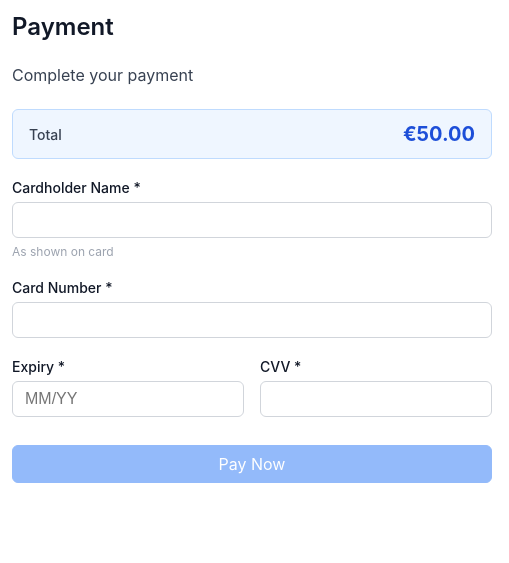
Test: PaymentStepComponent › Payment error (network failure) › should set paymentError on observable error
Type "John Doe" into the field with id "cardholderName". click: (252, 220)
box: [12,202,492,238]
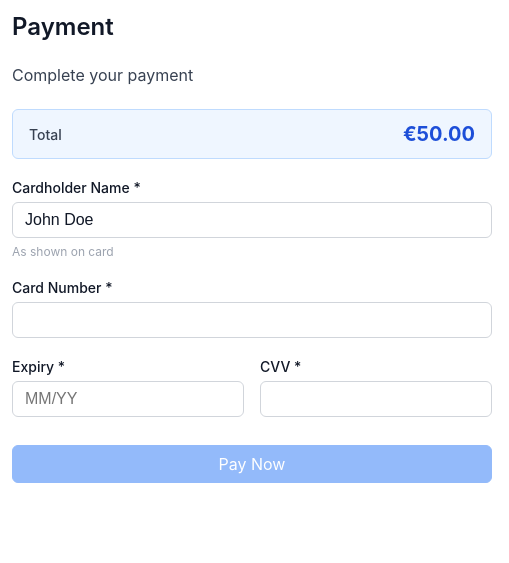
Type "4111111111111111" into the field with id "cardNumber". click: (252, 320)
box: [12,302,492,338]
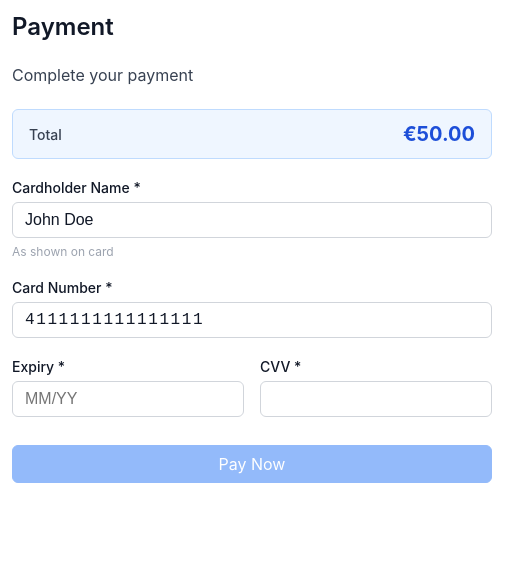
Type "12/27" into the field with id "expiryDate". click: (128, 399)
box: [12,381,244,417]
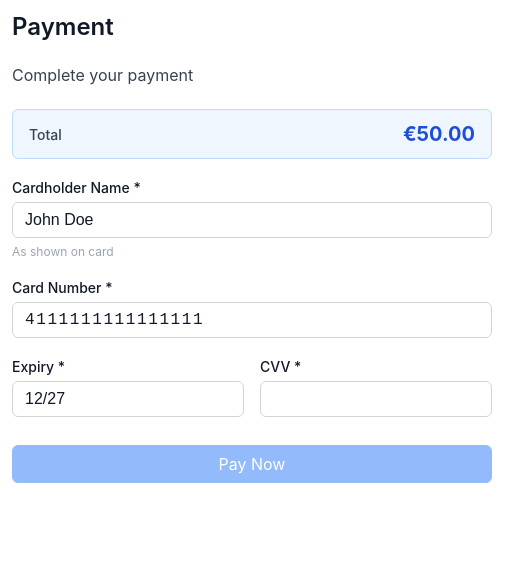
Type "123" into the field with id "cvv". click: (376, 399)
box: [260,381,492,417]
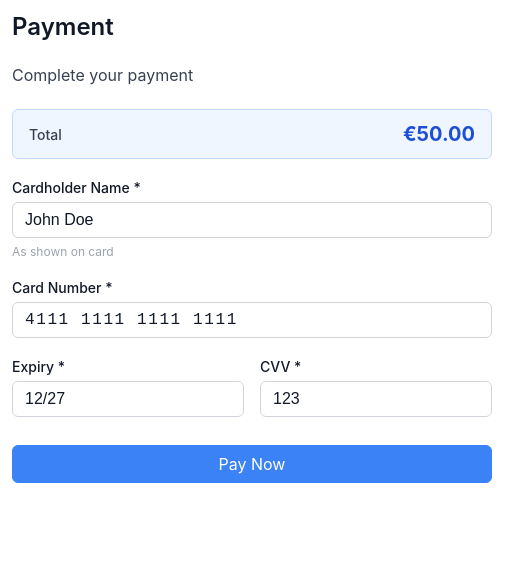
Submit the form
Wait 100 ms
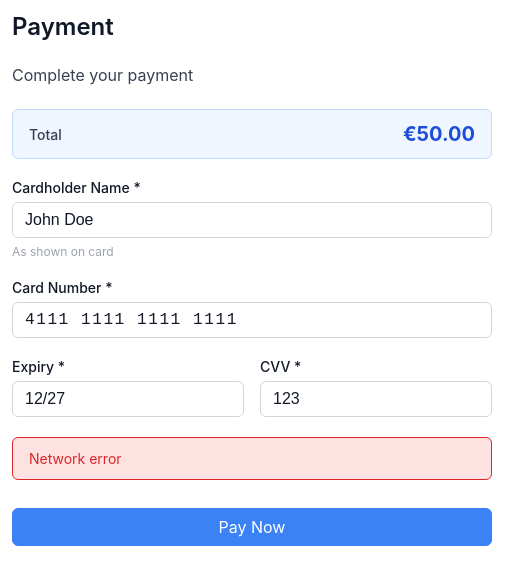
Now the message "Network error" is shown, box [12,437,492,480]
